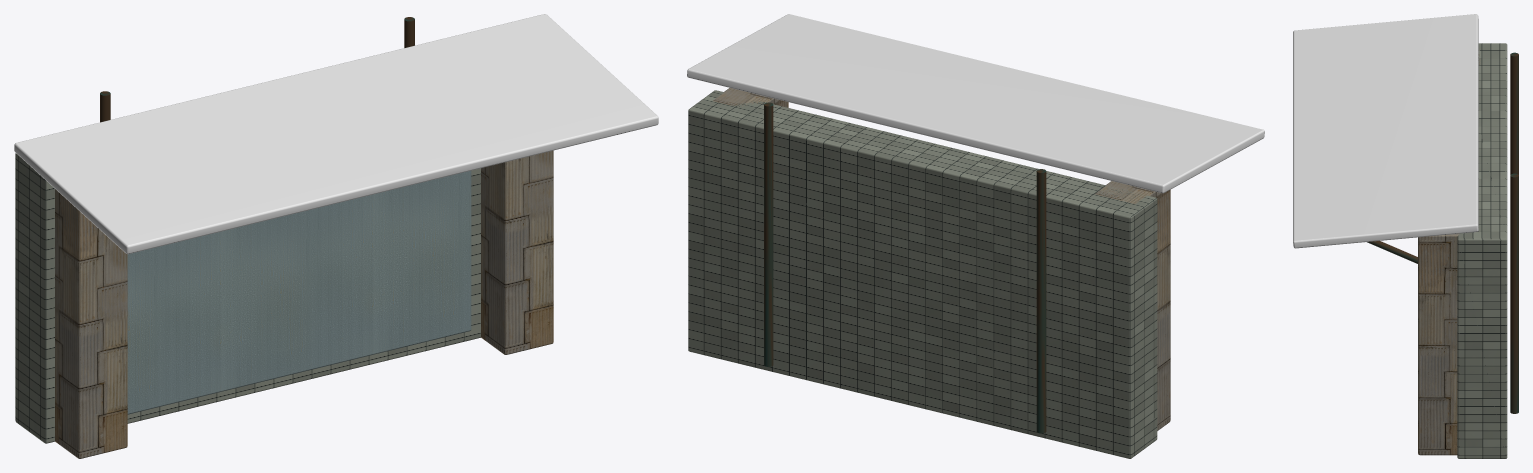
The model's file is NC_Shopfront_LOD0.fbx.
3 views of the same model, side by side, from view 1: azimuth 30°, elevation 25°; view 2: azimuth 150°, elevation 25°; view 3: azimuth 270°, elevation 25° (orthographic). The views are drawn at different scales.
Visible parts, largest first — view 1: NC_Shopfront_LOD0; view 2: NC_Shopfront_LOD0; view 3: NC_Shopfront_LOD0.
Boxes of the visible parts, x1,y1,x2,y2 form: NC_Shopfront_LOD0: [14, 14, 658, 458]; NC_Shopfront_LOD0: [687, 14, 1264, 458]; NC_Shopfront_LOD0: [1293, 14, 1518, 458].
Size of the model in its own units: 700 by 380 by 316.
